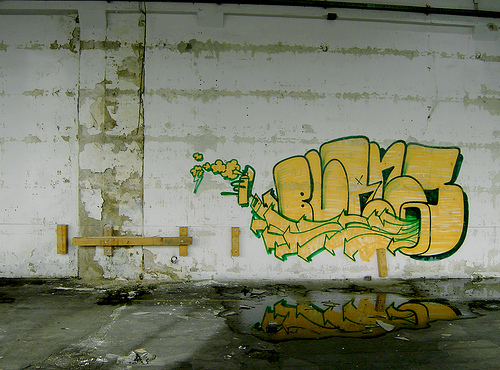graffiti: (186, 130, 469, 264), (244, 297, 464, 340)
